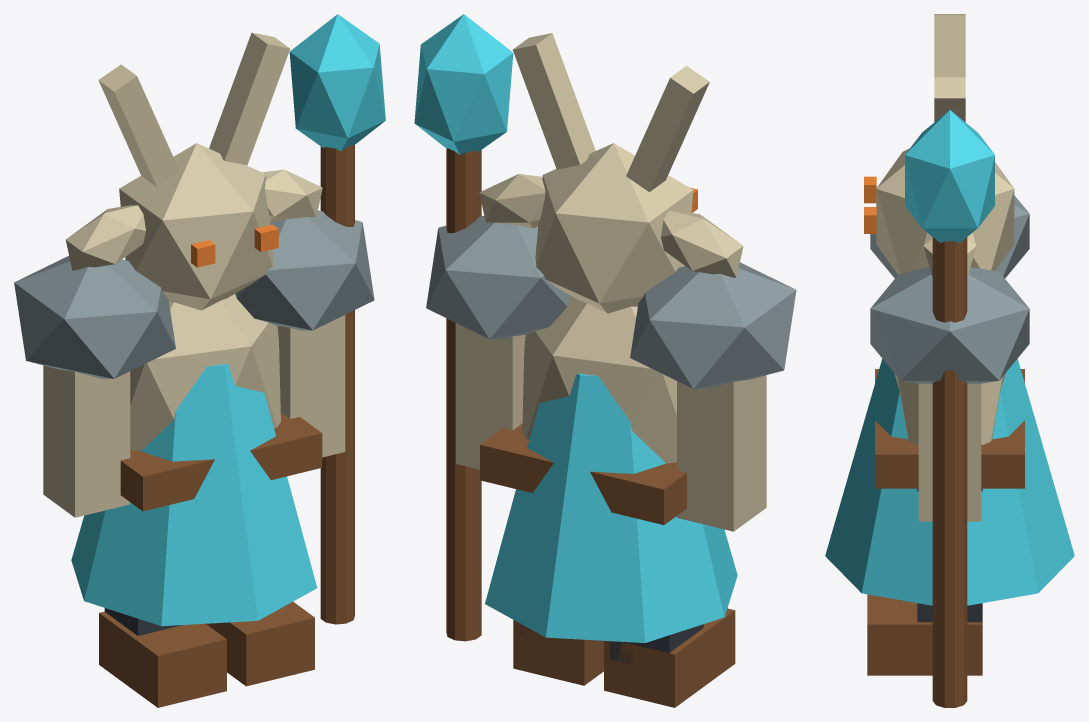
Rendered from elite_shaman.fbx.
3 renders of one model, left to right at view 1: azimuth 30°, elevation 25°; view 2: azimuth 150°, elevation 25°; view 3: azimuth 270°, elevation 25°, orthographic. The views are drawn at different scales.
Visible parts, largest first — view 1: Cone.001, Head.006, Shoulder.002, Torso.006, ArmLMesh.006, Shoulder.003, StaffGem.001, Staff.001, Boot.012, ArmRMesh.006, Belt.006, Boot.013 (+7 smaller); view 2: Cone.001, Head.006, Shoulder.002, Torso.006, Shoulder.003, ArmLMesh.006, StaffGem.001, Staff.001, ArmRMesh.006, Belt.006, Boot.012, Horn.003 (+5 smaller); view 3: Cone.001, Staff.001, Shoulder.003, StaffGem.001, Head.006, Boot.013, Belt.006, ArmRMesh.006, Horn.002, Torso.006, Shoulder.002, Horn.003 (+2 smaller).
Boxes of the visible parts, <box> form: Cone.001: <box>71,363,317,626</box>; Head.006: <box>119,143,273,310</box>; Shoulder.002: <box>14,256,175,378</box>; Torso.006: <box>130,294,280,451</box>; ArmLMesh.006: <box>43,365,130,517</box>; Shoulder.003: <box>235,210,374,330</box>; StaffGem.001: <box>289,14,385,151</box>; Staff.001: <box>320,144,354,624</box>; Boot.012: <box>99,611,226,707</box>; ArmRMesh.006: <box>277,315,345,457</box>; Belt.006: <box>120,412,322,511</box>; Boot.013: <box>206,602,314,686</box>; Cone.001: <box>485,373,737,642</box>; Head.006: <box>535,143,693,313</box>; Shoulder.002: <box>630,262,796,388</box>; Torso.006: <box>522,296,676,463</box>; Shoulder.003: <box>426,215,570,339</box>; ArmLMesh.006: <box>677,375,766,531</box>; StaffGem.001: <box>414,14,513,154</box>; Staff.001: <box>446,148,481,641</box>; ArmRMesh.006: <box>456,323,525,469</box>; Belt.006: <box>480,423,686,524</box>; Boot.012: <box>604,608,735,707</box>; Horn.003: <box>513,33,595,169</box>; Cone.001: <box>825,359,1074,605</box>; Staff.001: <box>932,237,967,707</box>; Shoulder.003: <box>870,267,1029,383</box>; StaffGem.001: <box>905,110,994,242</box>; Head.006: <box>876,148,1014,274</box>; Boot.013: <box>867,594,982,675</box>; Belt.006: <box>875,369,1024,488</box>; ArmRMesh.006: <box>918,383,981,521</box>; Horn.002: <box>934,14,965,77</box>; Torso.006: <box>894,373,1005,445</box>; Shoulder.002: <box>870,195,1029,278</box>; Horn.003: <box>934,77,965,121</box>.
Bounding box in the file's own units: 128 × 211 × 80.
